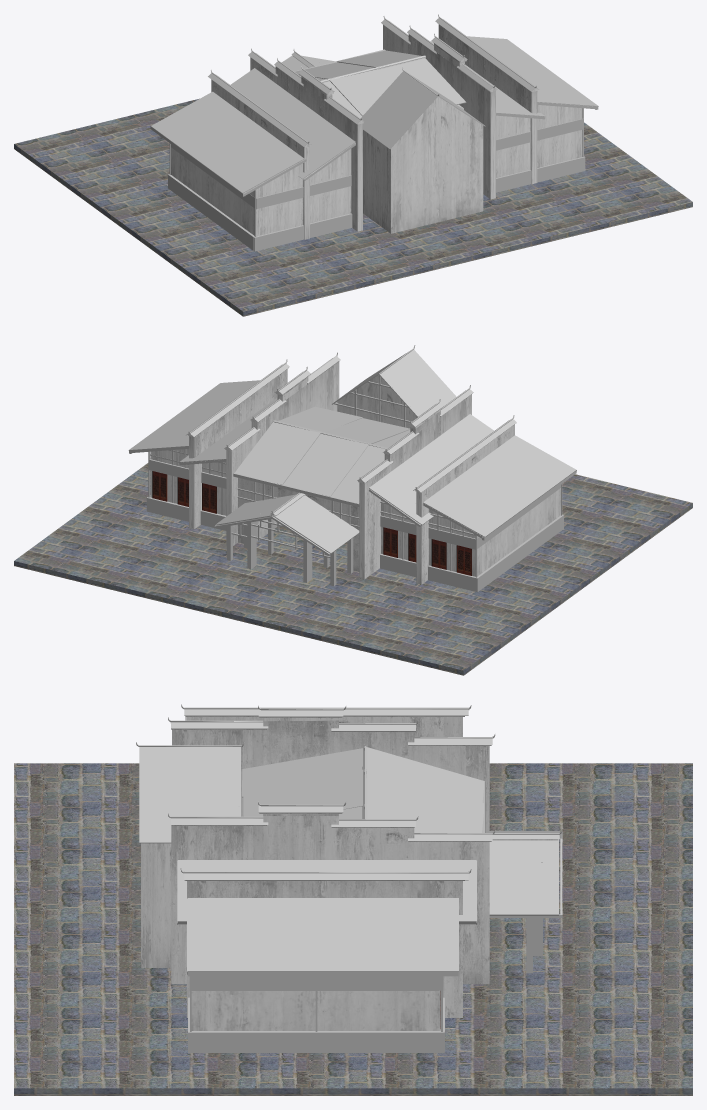
Rendered from ykoo.fbx.
The picture shows the model from 3 angles, top to bottom: view 1: azimuth 30°, elevation 25°; view 2: azimuth 150°, elevation 25°; view 3: azimuth 270°, elevation 25°; orthographic projection. The views are drawn at different scales.
Parts seen in each view (by area): view 1: polySurface2, Obj3d66-546879-164-397; view 2: polySurface2, Obj3d66-546879-164-397; view 3: Obj3d66-546879-164-397, polySurface2.
Boxes of the visible parts, bbox=[...] form: polySurface2: bbox=[150, 14, 598, 251]; Obj3d66-546879-164-397: bbox=[14, 98, 692, 316]; polySurface2: bbox=[128, 345, 576, 591]; Obj3d66-546879-164-397: bbox=[14, 463, 692, 675]; Obj3d66-546879-164-397: bbox=[14, 763, 692, 1095]; polySurface2: bbox=[136, 704, 562, 1052].
Bounding box in the file's own units: 124 × 35.54 × 109.
